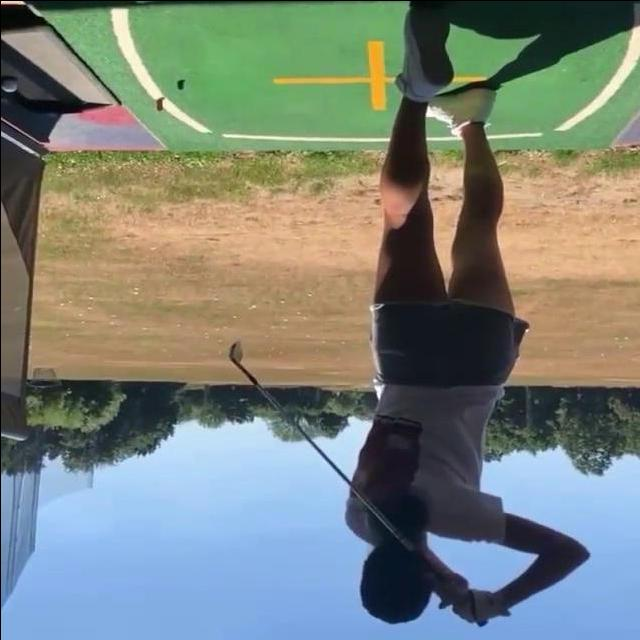golf ball: (2, 78, 16, 92)
golf club-handle: (228, 342, 488, 626)
golf club-head: (229, 342, 243, 363)
